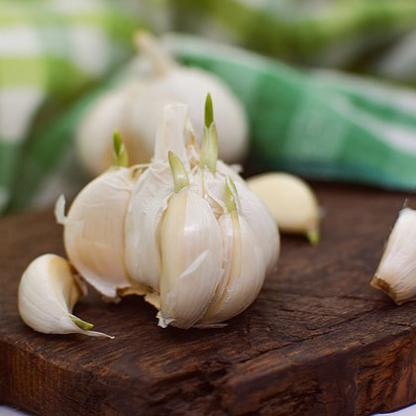garlic: (49, 150, 274, 322), (244, 168, 322, 236), (17, 254, 82, 330), (370, 200, 414, 303)
